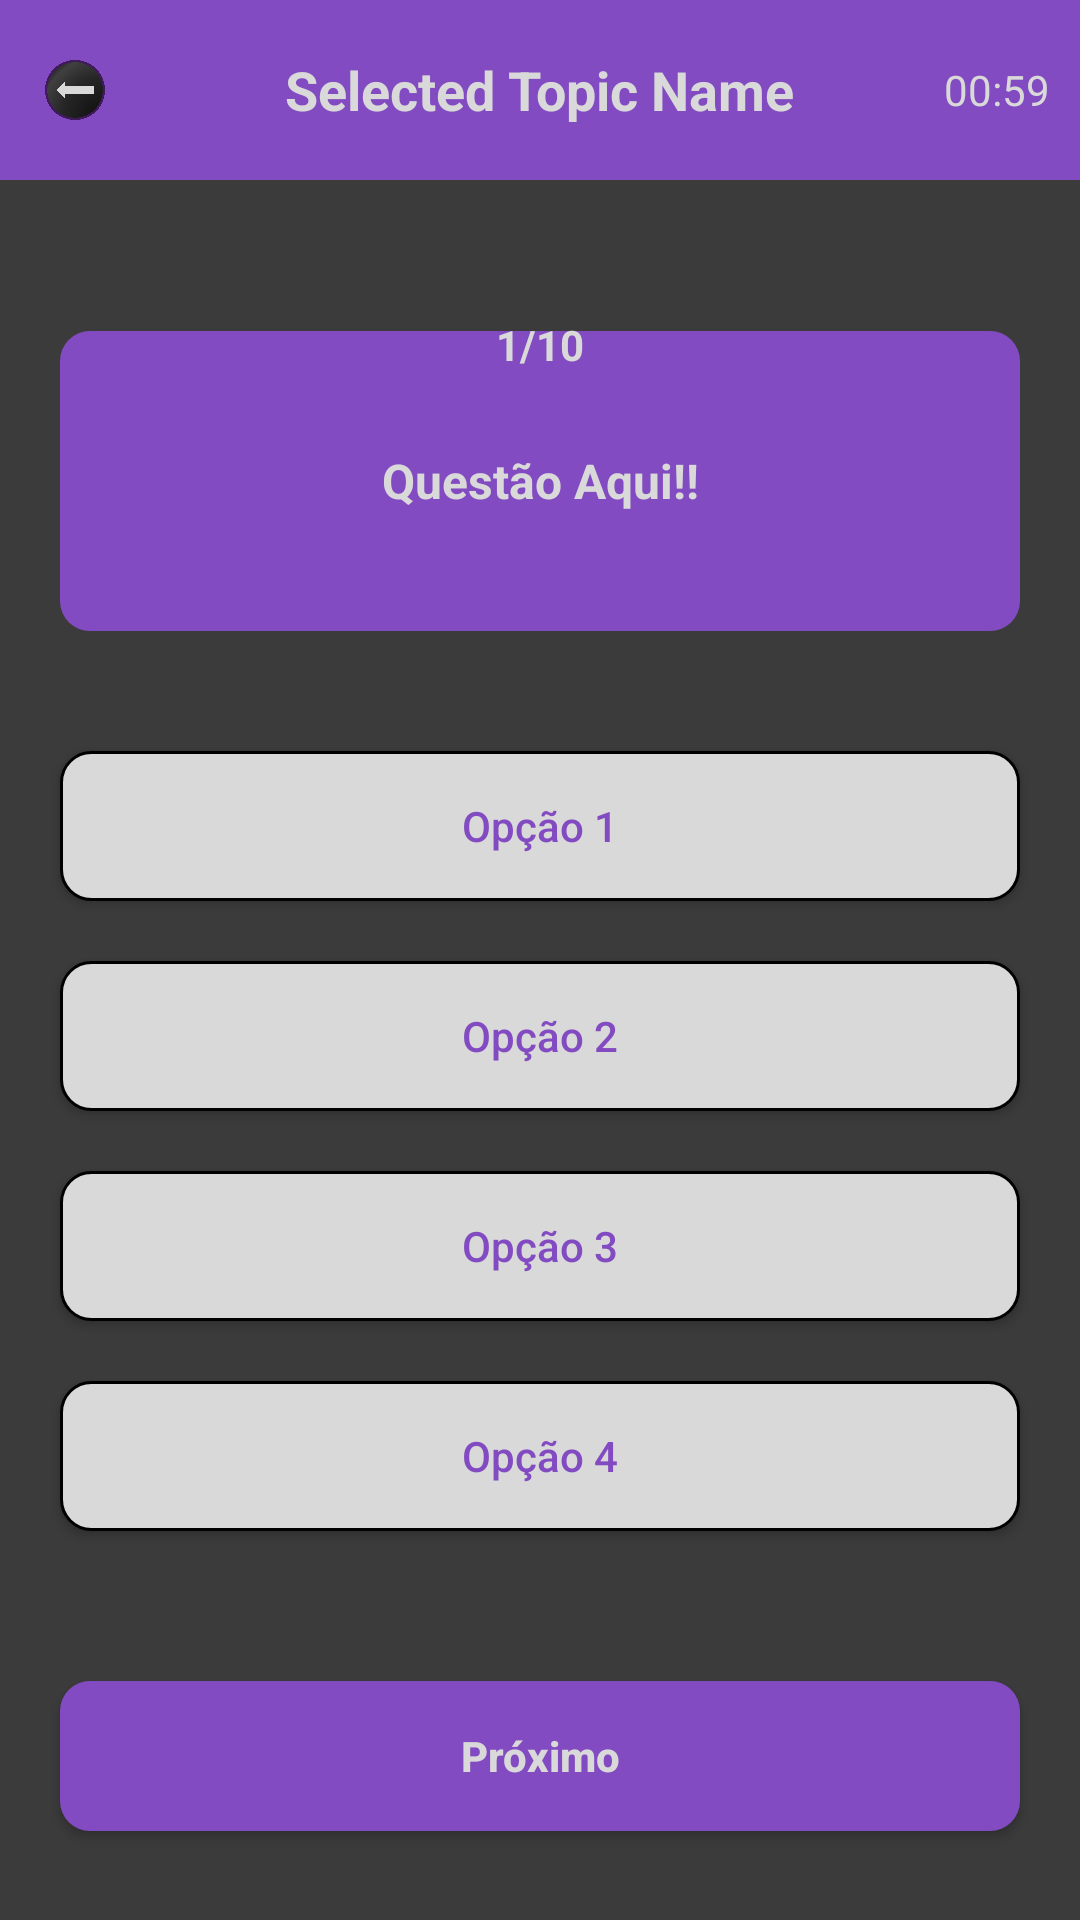

Named icons in this screenshot (1080×1920) and their bounding boxes, box(x1, y1, x2, y2):
back: box(45, 60, 105, 120)
